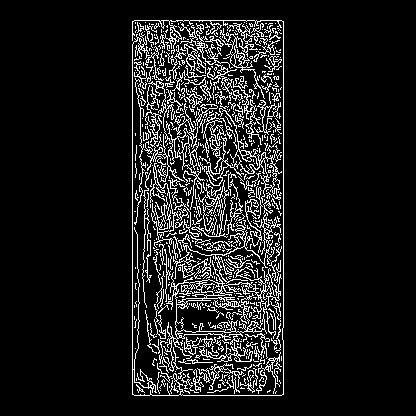buddha-sitting: (90, 236, 218, 256)
